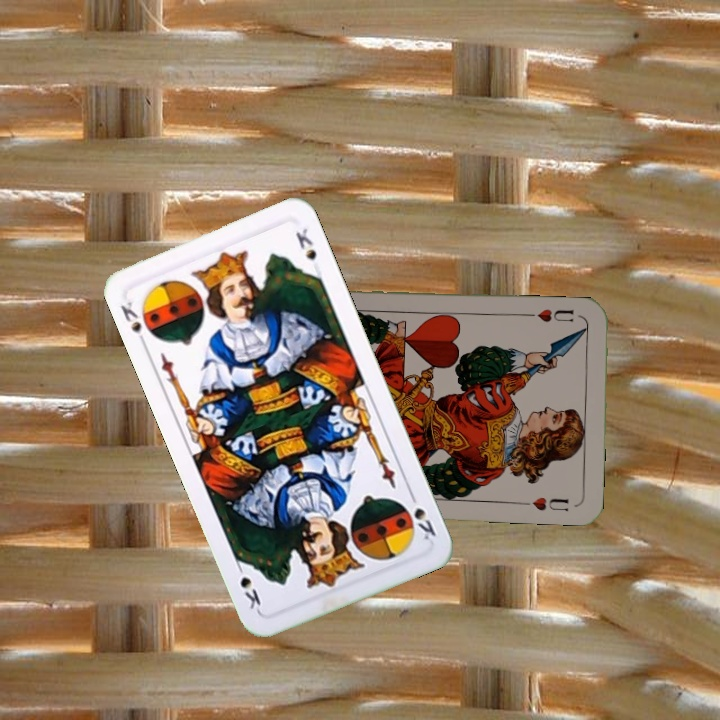HU: (525, 305, 576, 325)
SK: (405, 487, 439, 543), (116, 297, 150, 349)
